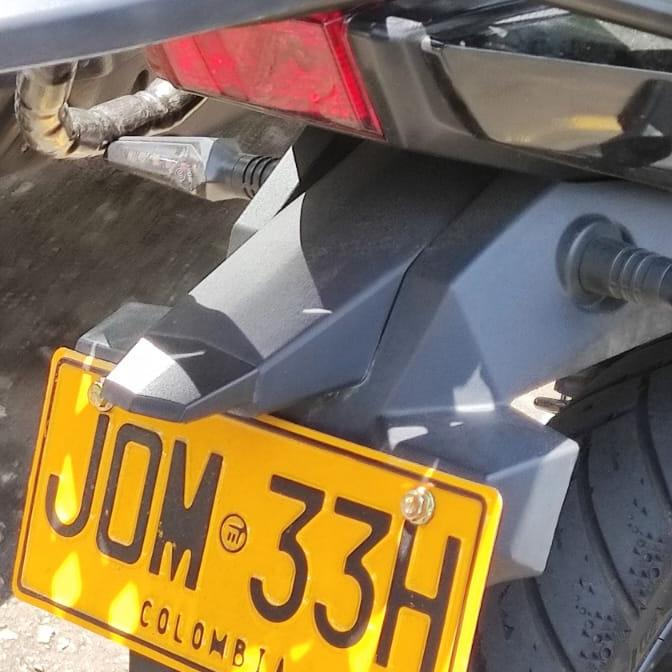plates: (10, 349, 501, 672)
